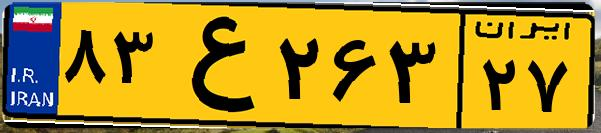2: (270, 28, 330, 110), (475, 38, 525, 113)
3: (385, 28, 445, 110), (110, 28, 158, 98)
6: (330, 28, 385, 110)
7: (525, 38, 570, 115)
8: (57, 26, 110, 100)
ع: (158, 12, 270, 120)
